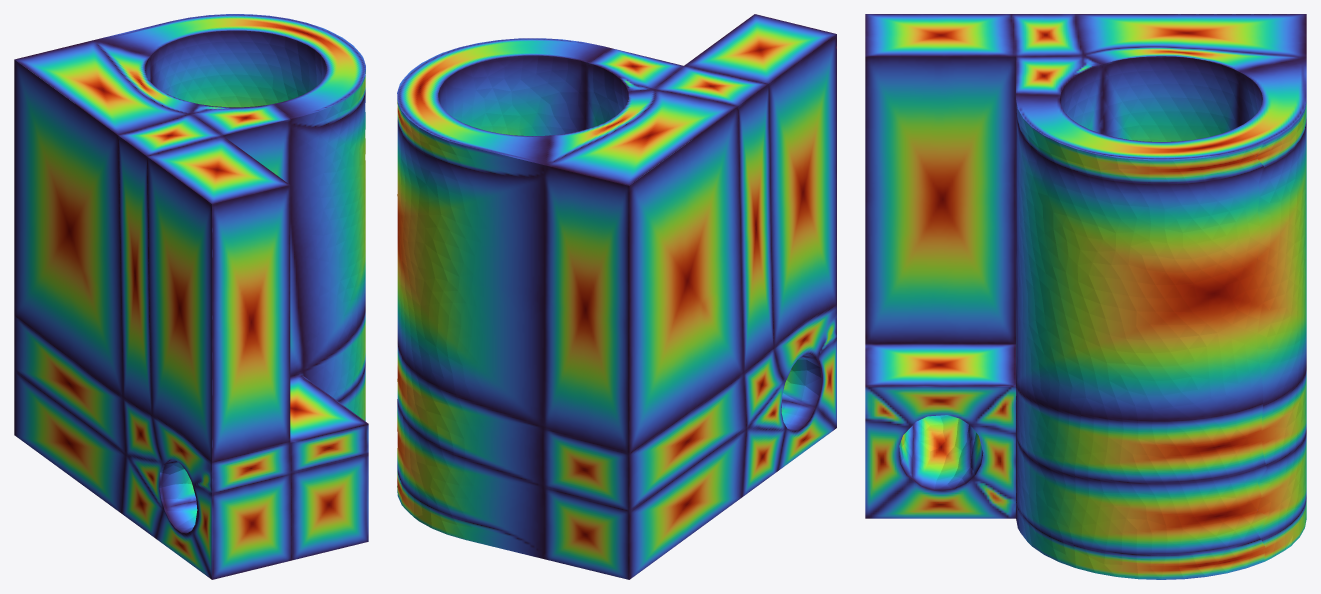
Rendered from gen3.glb.
The picture shows the model from 3 angles, left to right: view 1: azimuth 30°, elevation 25°; view 2: azimuth 150°, elevation 25°; view 3: azimuth 270°, elevation 25°; orthographic projection. The views are drawn at different scales.
Visible parts, largest first — view 1: Node; view 2: Node; view 3: Node.
Boxes of the visible parts, x1=… form: Node: x1=14, y1=14, x2=368, y2=579; Node: x1=397, y1=14, x2=836, y2=579; Node: x1=865, y1=14, x2=1306, y2=579.
Bounding box in the file's own units: 0.7501 × 1 × 0.9542.
Materials: 1 (1 with a texture image).
